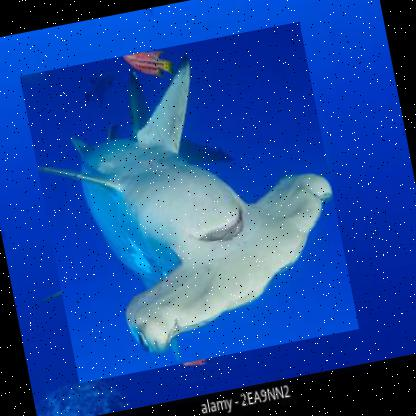hammerhead_Shark: (19, 21, 360, 384)
